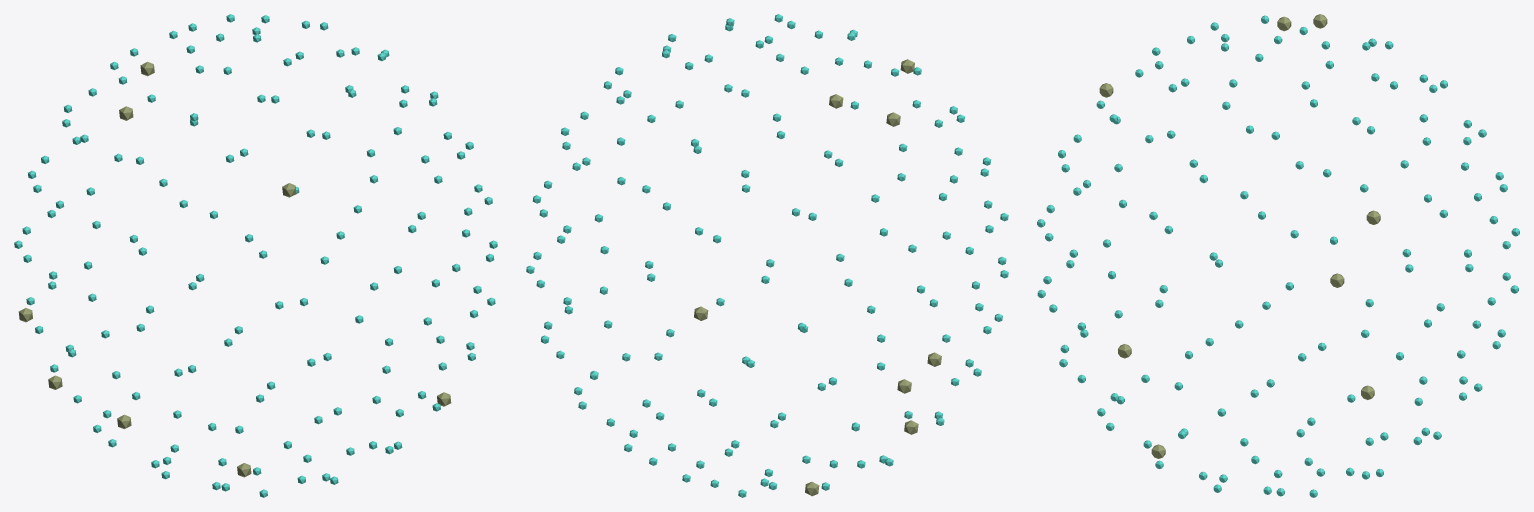
File: globe-lattice-mid.glb
3 views of the same model, side by side, from view 1: azimuth 30°, elevation 25°; view 2: azimuth 150°, elevation 25°; view 3: azimuth 270°, elevation 25° (orthographic).
Parts seen in each view (by area): view 1: shell_03, shell_05, shell_01, shell_04, shell_00, shell_02; view 2: shell_03, shell_01, shell_05, shell_04, shell_00, shell_02; view 3: shell_03, shell_01, shell_04, shell_05, shell_00, shell_02.
Boxes of the visible parts, x1,y1,x2,y2 form: shell_03: (196, 155, 478, 477); shell_05: (73, 298, 426, 497); shell_01: (14, 136, 187, 452); shell_04: (88, 14, 437, 162); shell_00: (322, 47, 497, 406); shell_02: (33, 45, 303, 351); shell_03: (713, 40, 992, 366); shell_01: (828, 114, 1008, 434); shell_05: (578, 352, 942, 497); shell_04: (615, 14, 921, 166); shell_00: (526, 62, 708, 376); shell_02: (544, 162, 816, 468); shell_03: (1037, 83, 1131, 430); shell_01: (1119, 34, 1447, 309); shell_04: (1109, 14, 1437, 183); shell_05: (1116, 329, 1441, 497); shell_00: (1114, 184, 1444, 476); shell_02: (1419, 74, 1519, 400).
Bounding box in the file's own units: 3.64 × 3.67 × 3.63.
